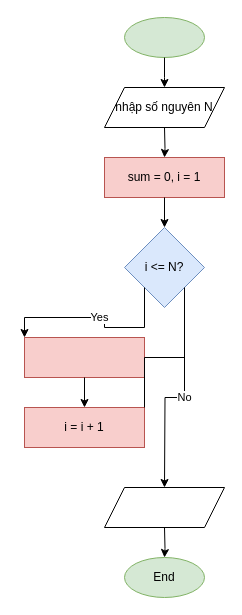
Some shapes in this 242 by 615 pixel diagram are drawn without their labels. The box of each missing label's shape, as (x1, y1, x2, y2) in pixels:
Start: (124, 16, 204, 58)
sum = sum + i: (24, 336, 144, 378)
ín sum: (104, 486, 224, 528)
